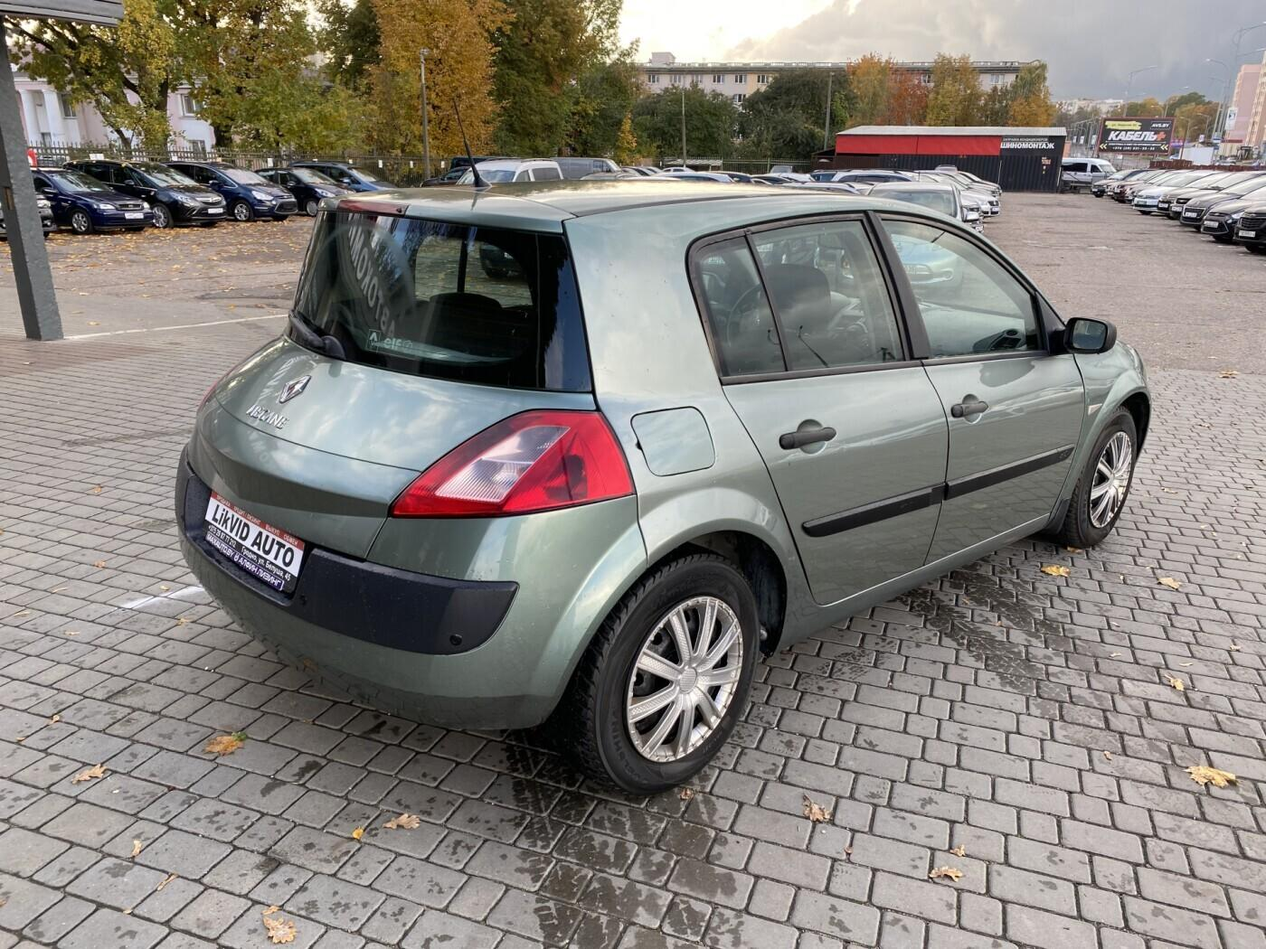Megane_2002-2006: (174, 177, 1154, 772)
